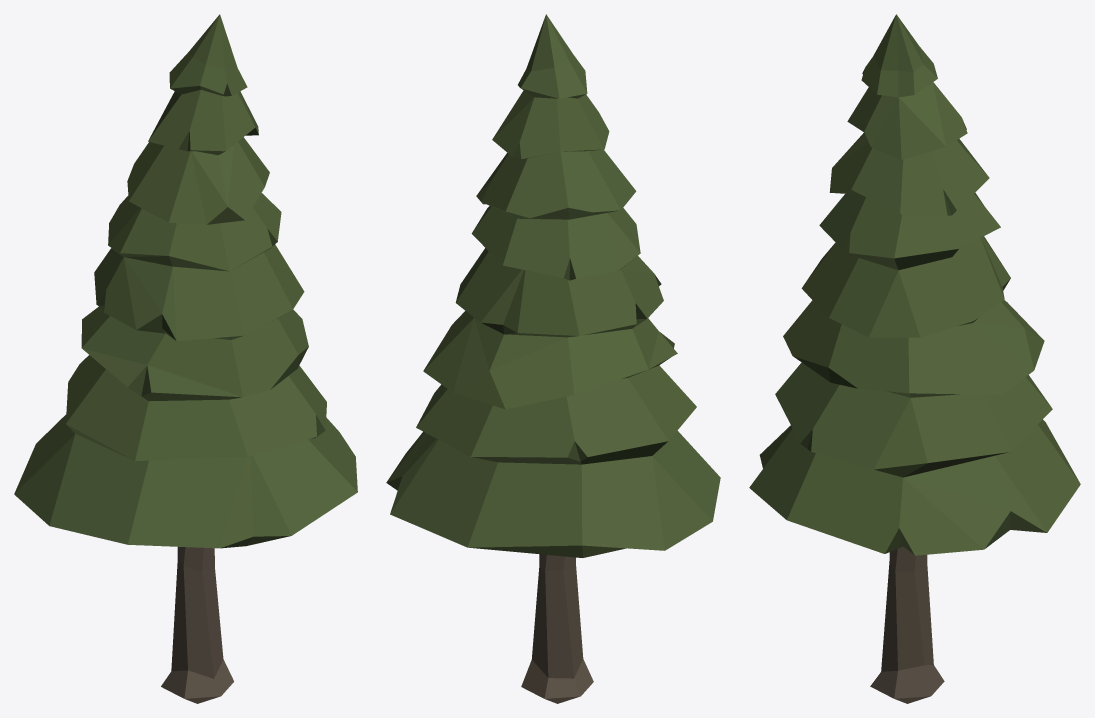
The model's file is Tree_062.fbx.
The picture shows the model from 3 angles, left to right: view 1: azimuth 30°, elevation 25°; view 2: azimuth 150°, elevation 25°; view 3: azimuth 270°, elevation 25°; orthographic projection. The views are drawn at different scales.
Parts seen in each view (by area): view 1: Tree_062; view 2: Tree_062; view 3: Tree_062.
Part boxes in pixels (x1,y1,x2,y2): Tree_062: [14, 14, 357, 703]; Tree_062: [386, 14, 720, 703]; Tree_062: [749, 14, 1080, 703].
Bounding box in the file's own units: 0.6507 × 1.42 × 0.6104.
1 material, 1 textured.
